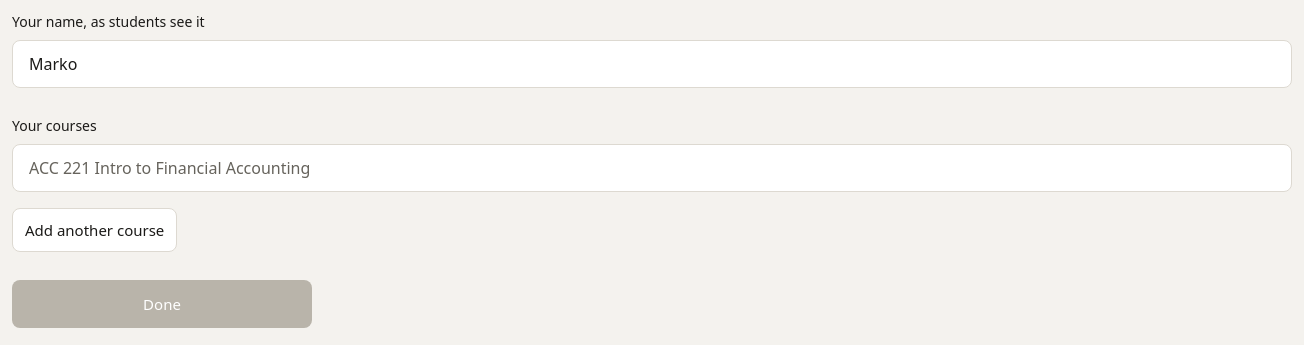
Test: SetupForm › sends once on a double click and keeps Done disabled while it saves
Type "IMS 452" into the field named "Course" at (652, 168), box [12,144,1292,192]
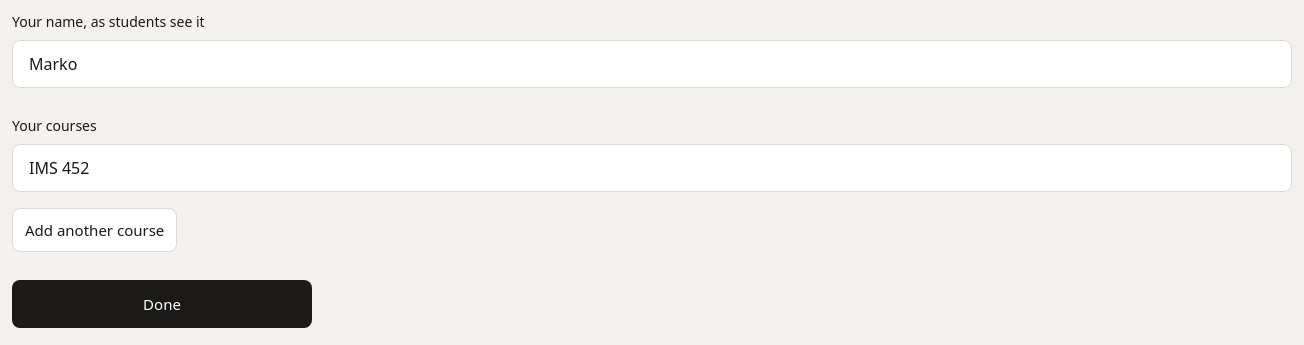
Submit the form
Submit the form
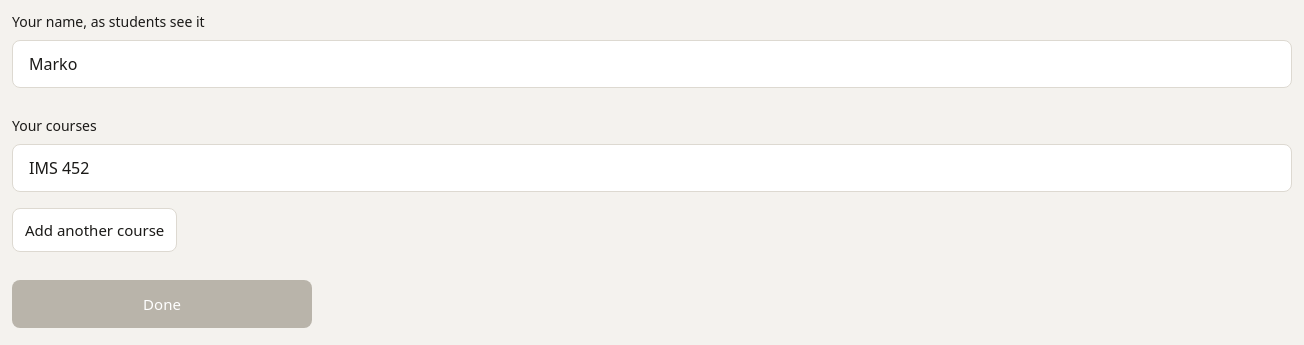
Now the button "Done" is disabled, box [12,280,312,328]
